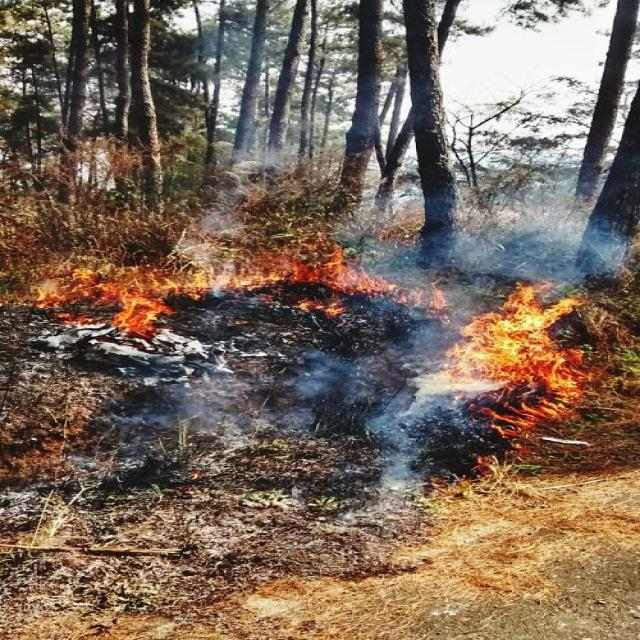Fire: (32, 242, 451, 346), (449, 281, 595, 480)
Smoke: (212, 33, 634, 272), (69, 360, 419, 524)
